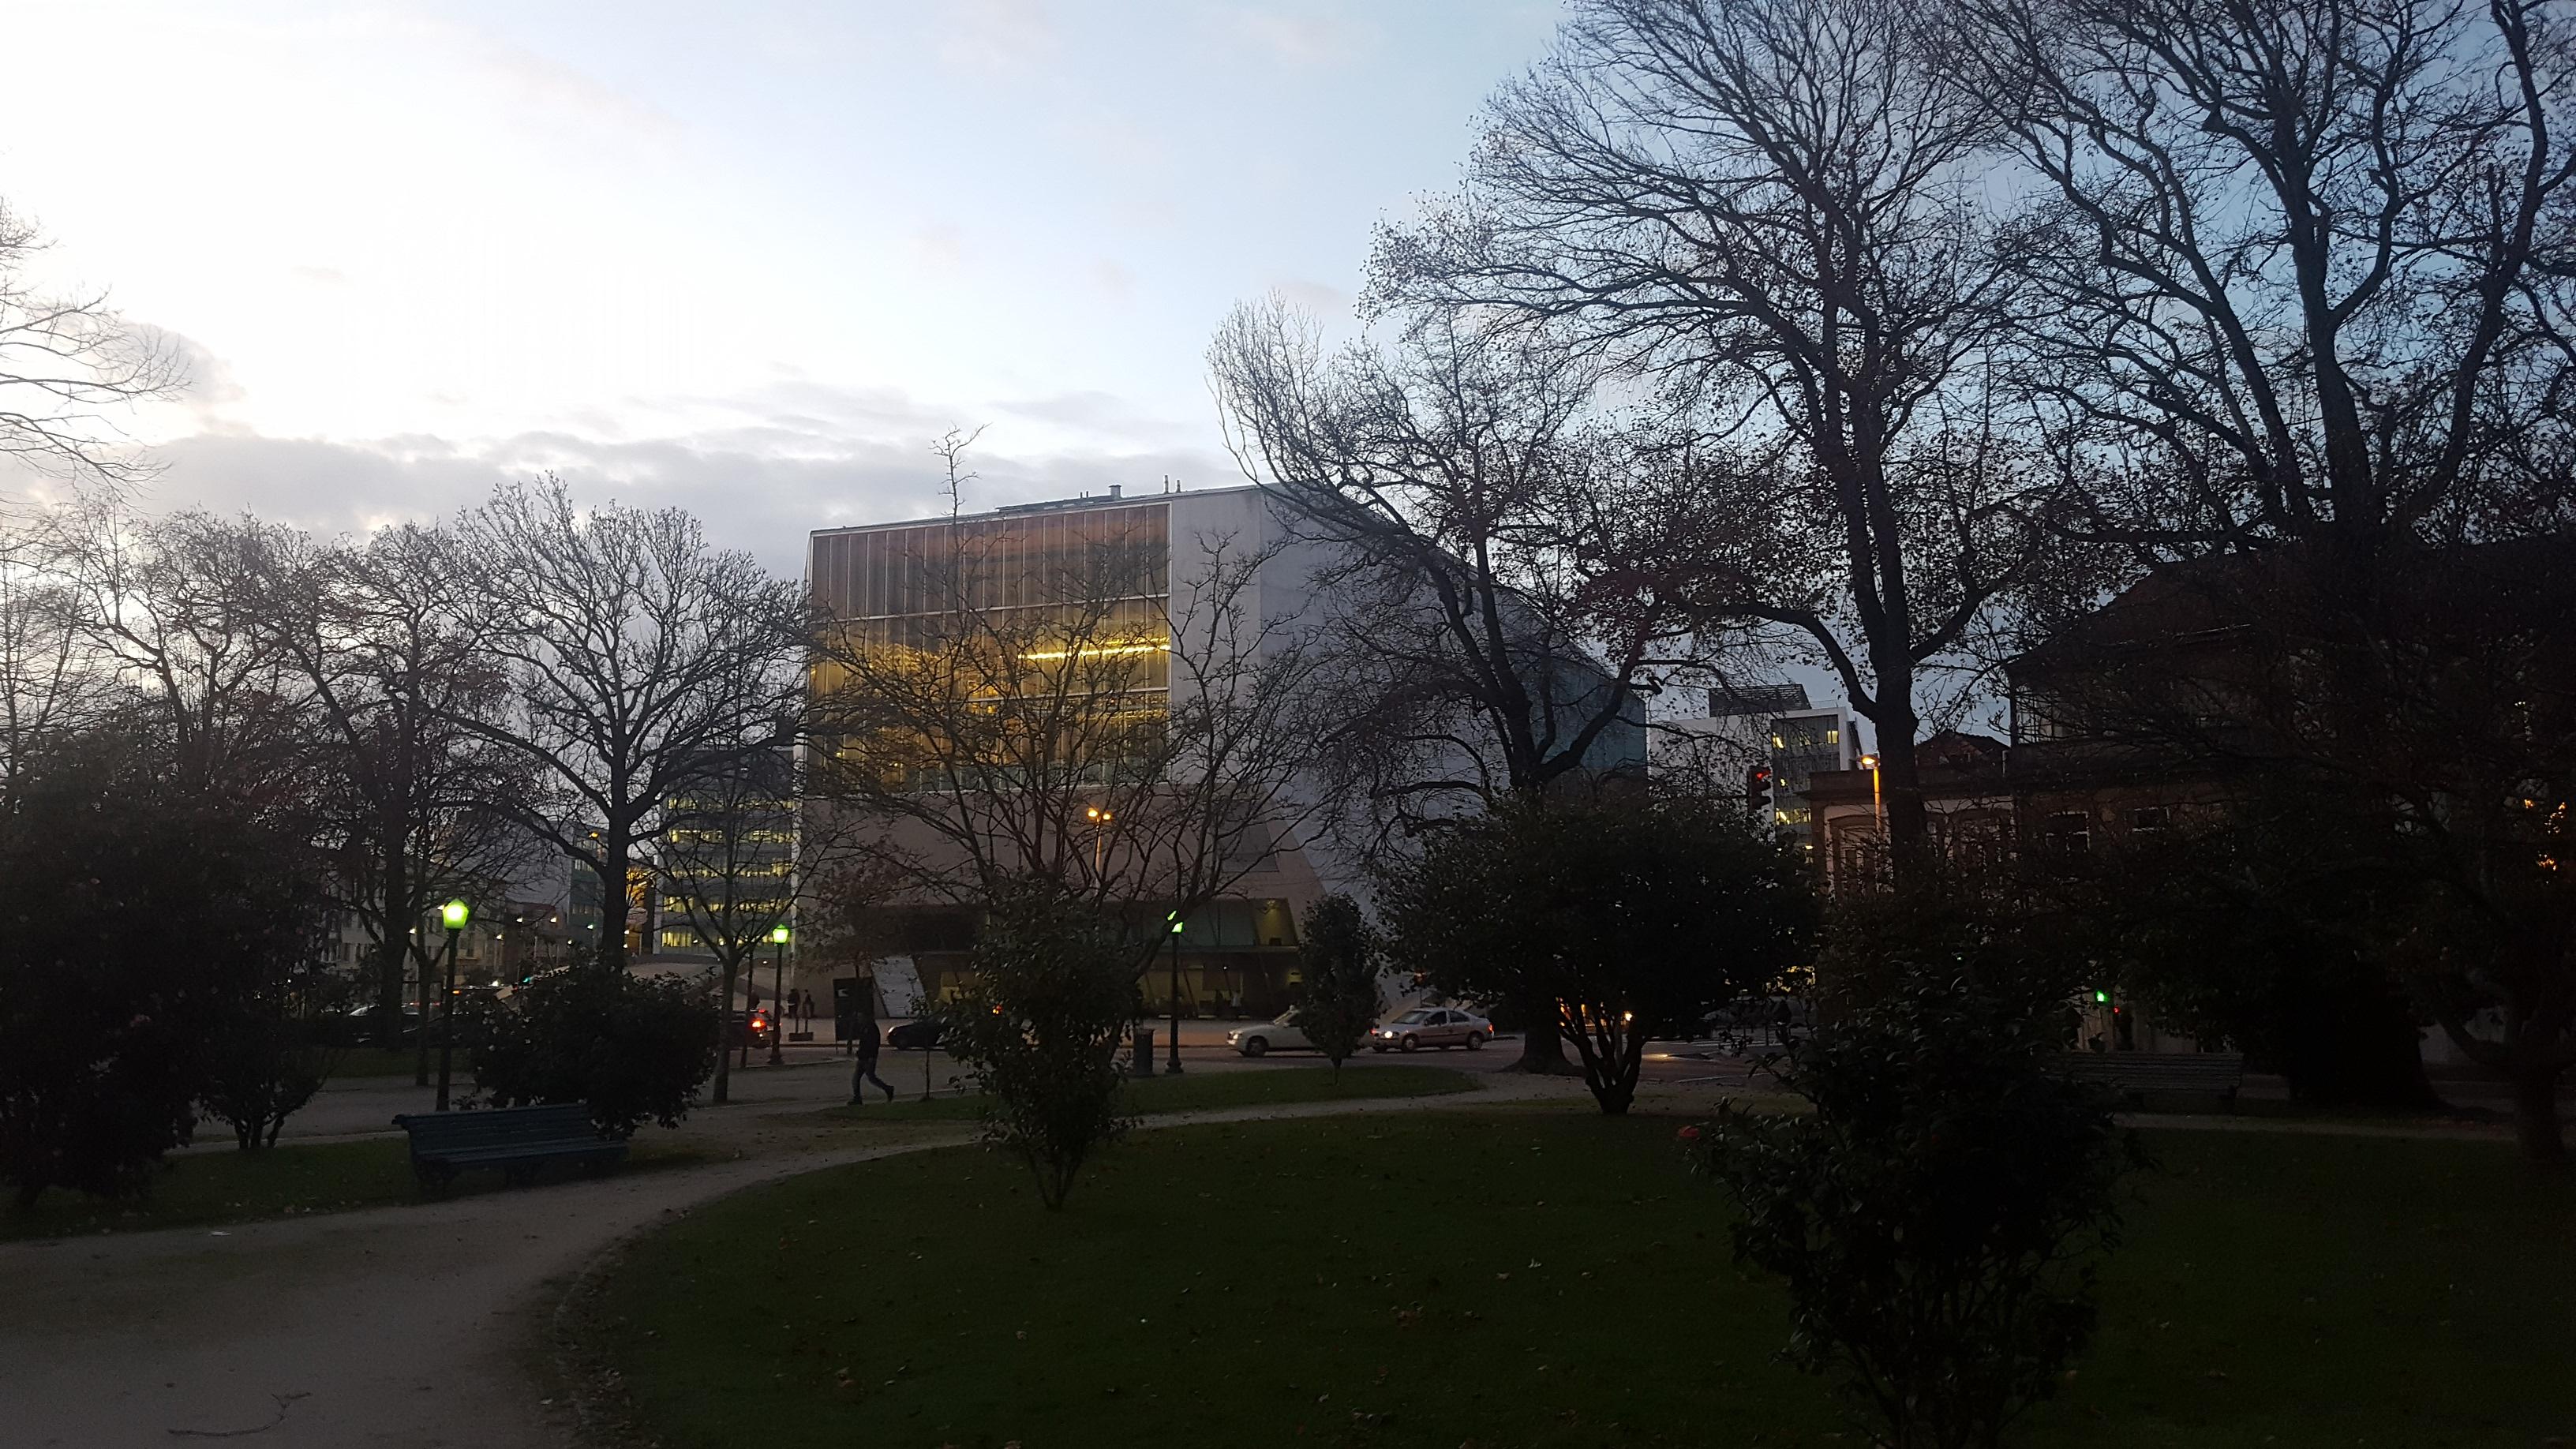musica: (773, 525, 1681, 966)
